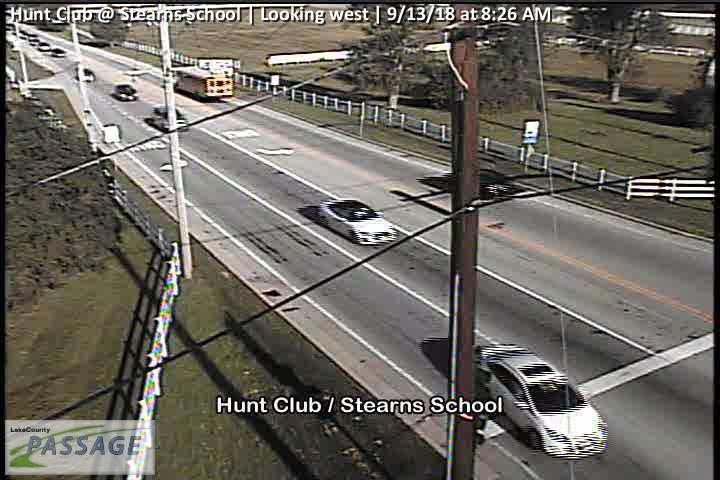SUV: (470, 344, 607, 459), (152, 104, 186, 133), (111, 85, 137, 102)
Sedan: (317, 198, 397, 246)
Truck: (166, 67, 234, 101)
